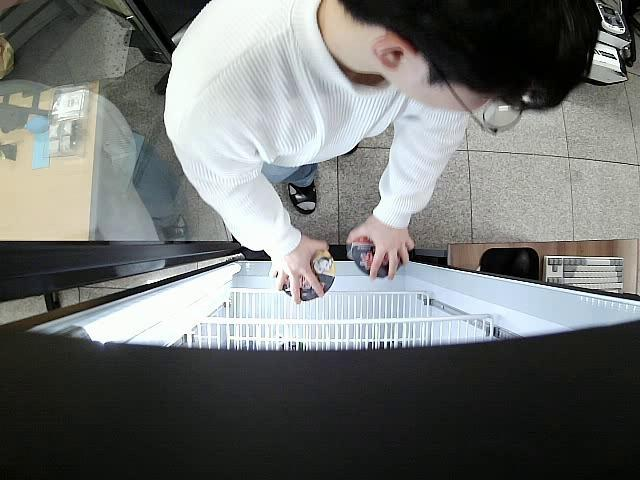07_buldak_L: (276, 249, 335, 302), (352, 236, 407, 279)
